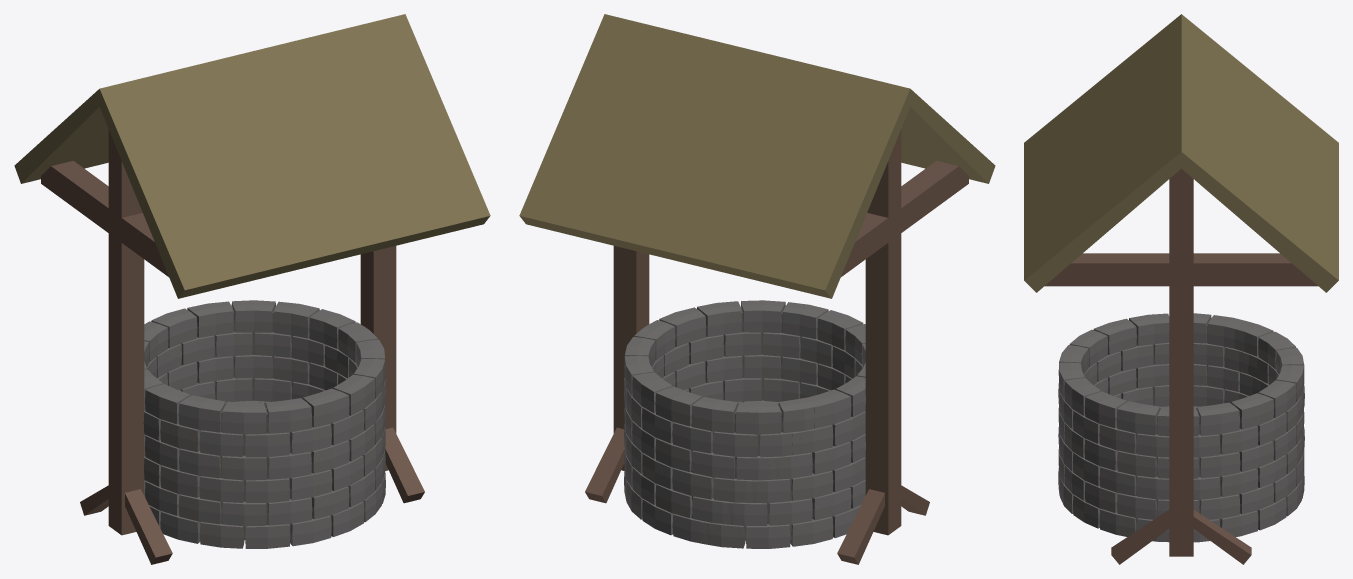
Rendered from well.fbx.
3 views of the same model, side by side, from view 1: azimuth 30°, elevation 25°; view 2: azimuth 150°, elevation 25°; view 3: azimuth 270°, elevation 25° (orthographic). The views are drawn at different scales.
Visible parts, largest first — view 1: Plane, Cube, Cube.001, Plane.001, Cylinder; view 2: Plane, Cube, Cube.001, Plane.001, Cylinder; view 3: Plane, Cube, Cube.001, Plane.001, Cylinder.
Part boxes in pixels (x1=…): Plane: x1=14, y1=14, x2=490, y2=298; Cube: x1=143, y1=300, x2=385, y2=548; Cube.001: x1=41, y1=130, x2=396, y2=535; Plane.001: x1=80, y1=427, x2=424, y2=564; Cylinder: x1=178, y1=306, x2=338, y2=540; Plane: x1=519, y1=14, x2=995, y2=298; Cube: x1=623, y1=300, x2=865, y2=548; Cube.001: x1=613, y1=130, x2=968, y2=535; Plane.001: x1=585, y1=427, x2=929, y2=564; Cylinder: x1=690, y1=307, x2=833, y2=540; Plane: x1=1024, y1=14, x2=1338, y2=292; Cube: x1=1058, y1=313, x2=1304, y2=542; Cube.001: x1=1045, y1=169, x2=1317, y2=556; Plane.001: x1=1111, y1=510, x2=1251, y2=564; Cylinder: x1=1099, y1=324, x2=1240, y2=530.
Size of the model in its own units: 265 by 377 by 255.
